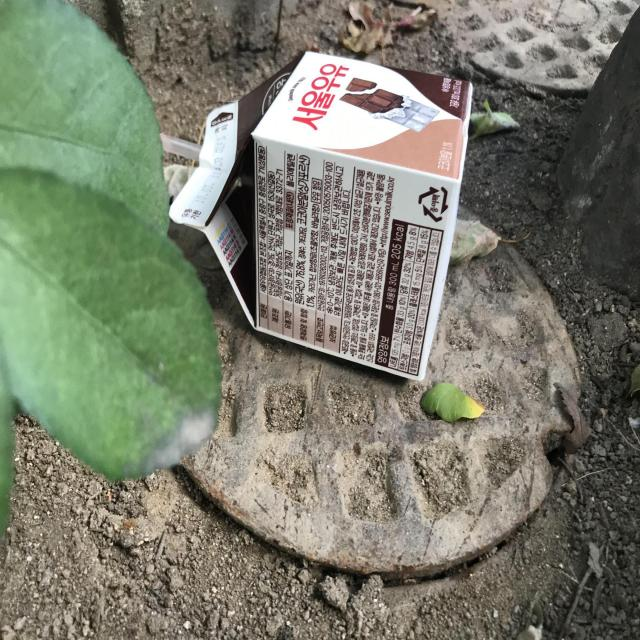paperpack: (170, 51, 473, 380)
